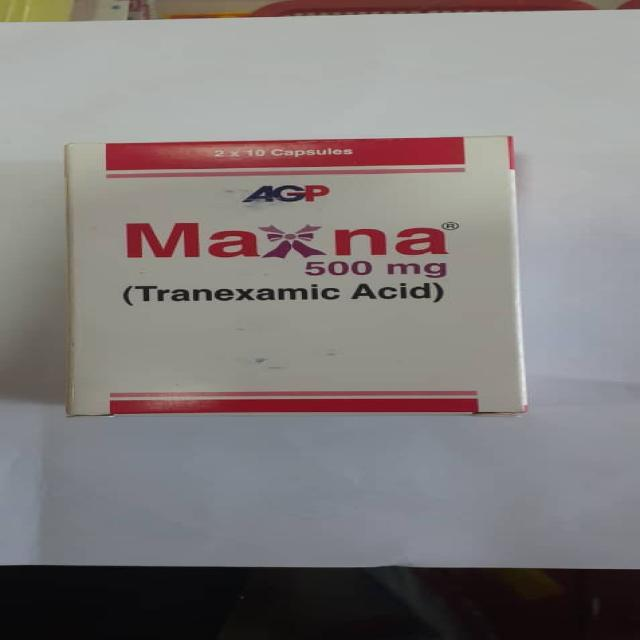drug-name: (121, 218, 448, 262)
